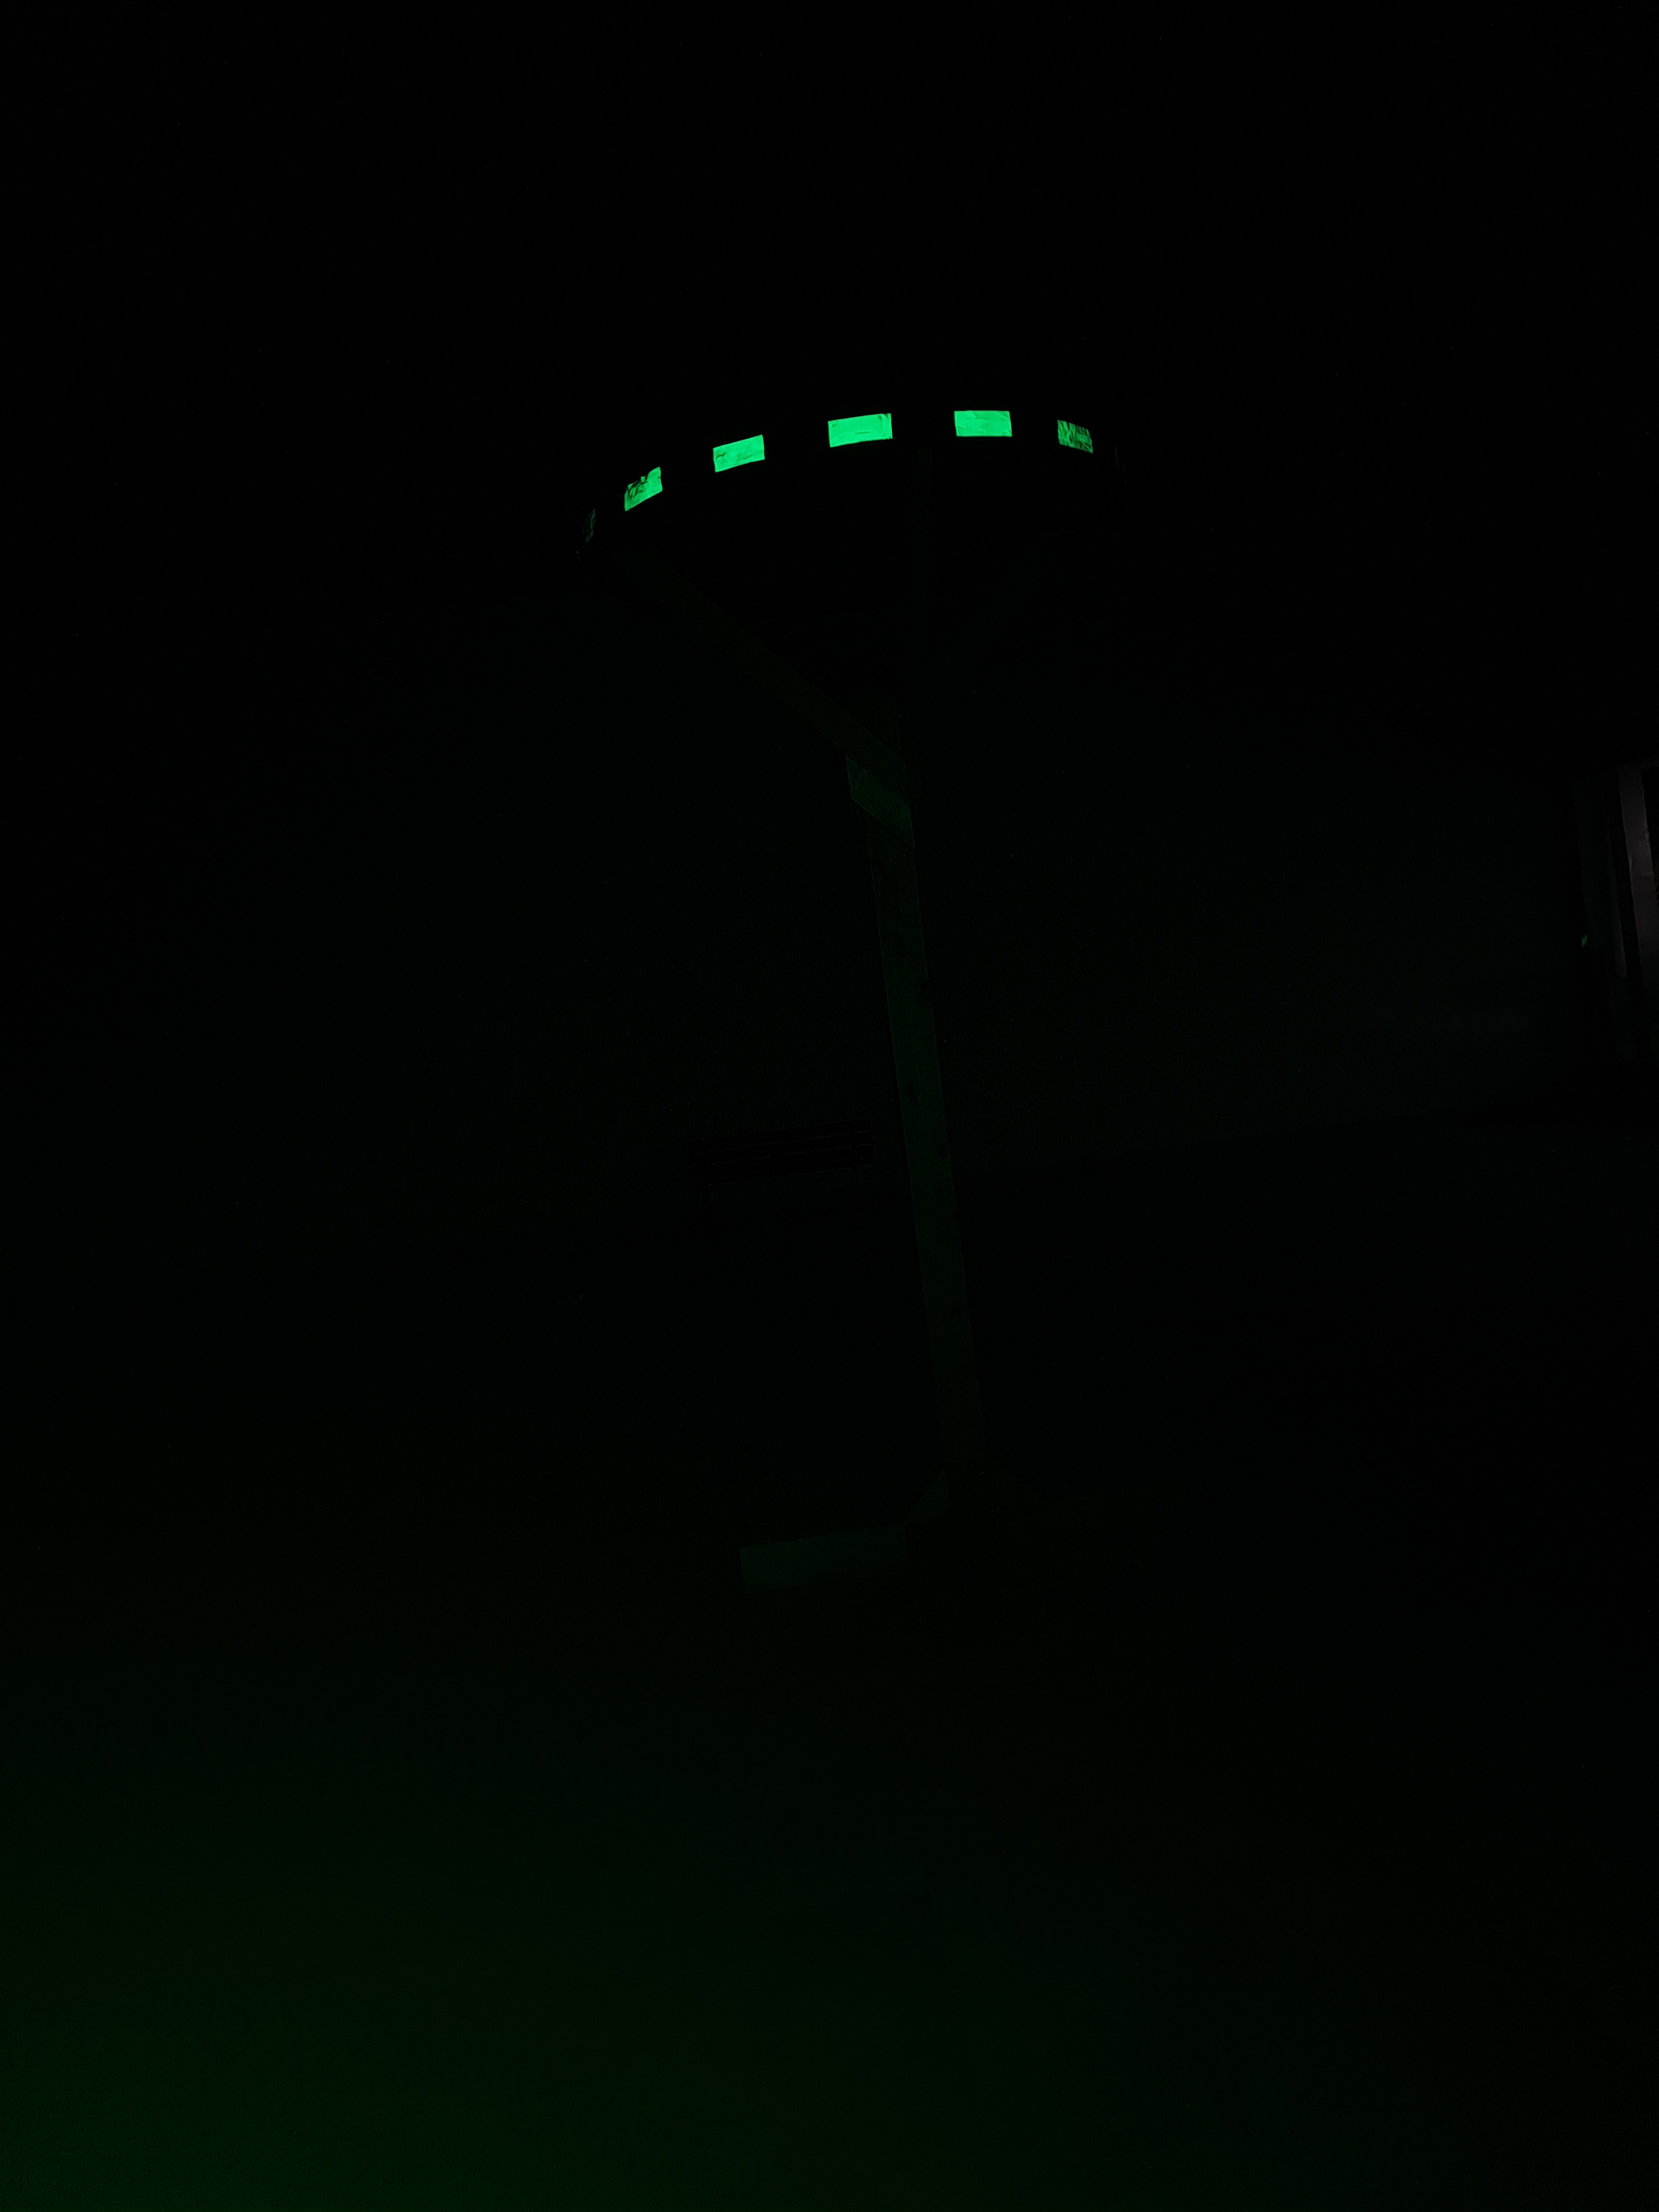hoop: (617, 408, 1100, 514)
